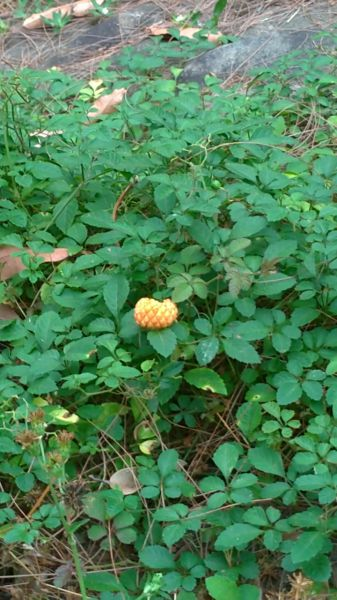eggs: (131, 295, 182, 331)
